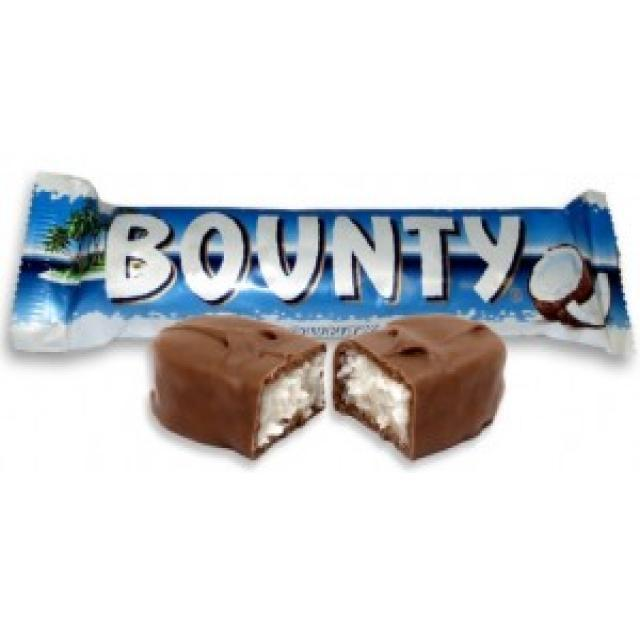Chocolate bar: (13, 167, 640, 371)
Chocolate bar packaged: (139, 310, 517, 468)
